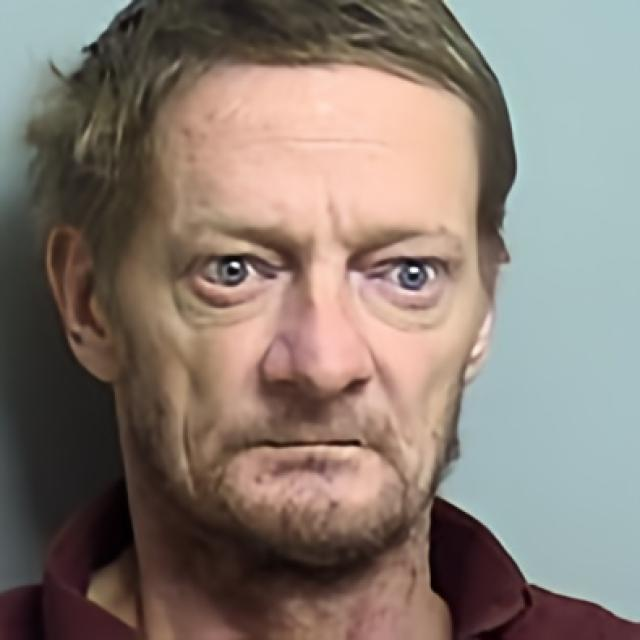anger: (117, 71, 480, 559)
